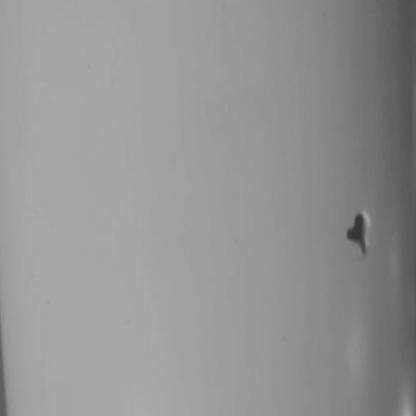kongdong: (337, 202, 377, 269)
